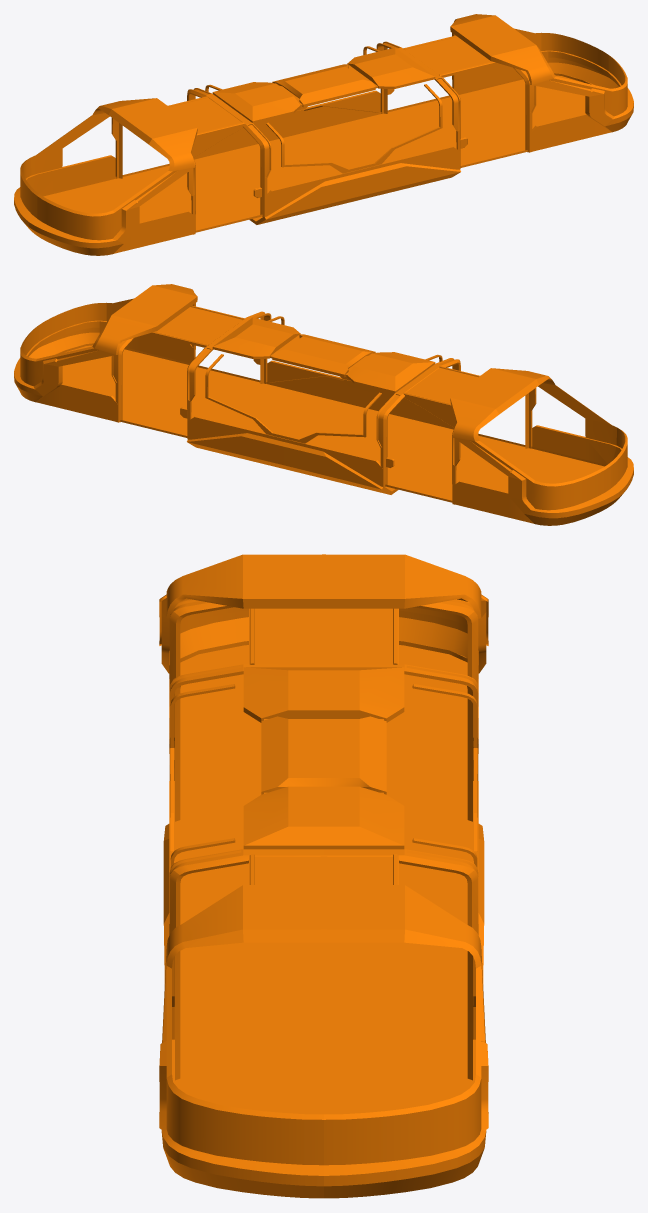
The model's file is SM_Tram_Exterior.FBX.
The picture shows the model from 3 angles, top to bottom: view 1: azimuth 30°, elevation 25°; view 2: azimuth 150°, elevation 25°; view 3: azimuth 270°, elevation 25°; orthographic projection. The views are drawn at different scales.
Parts seen in each view (by area): view 1: exterior; view 2: exterior; view 3: exterior.
Boxes of the visible parts, bbox=[...] form: exterior: bbox=[14, 14, 633, 255]; exterior: bbox=[14, 284, 633, 525]; exterior: bbox=[159, 554, 488, 1198].
Bounding box in the file's own units: 2114 × 350 × 511.
